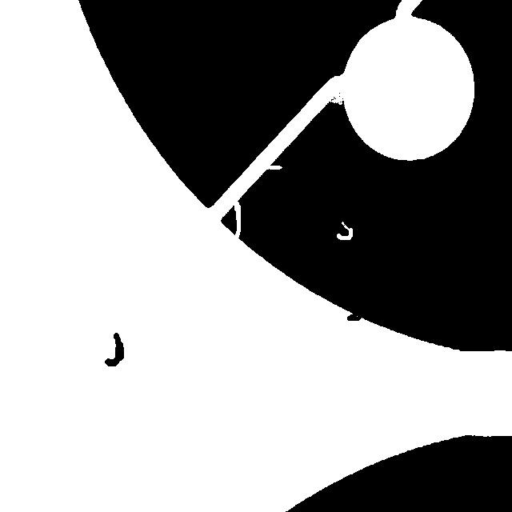copper: (97, 325, 131, 374)
mousebite: (322, 83, 350, 112), (255, 158, 290, 178)
open: (226, 194, 248, 247)
pin-hole: (329, 214, 360, 247)
spur: (339, 302, 370, 328)
